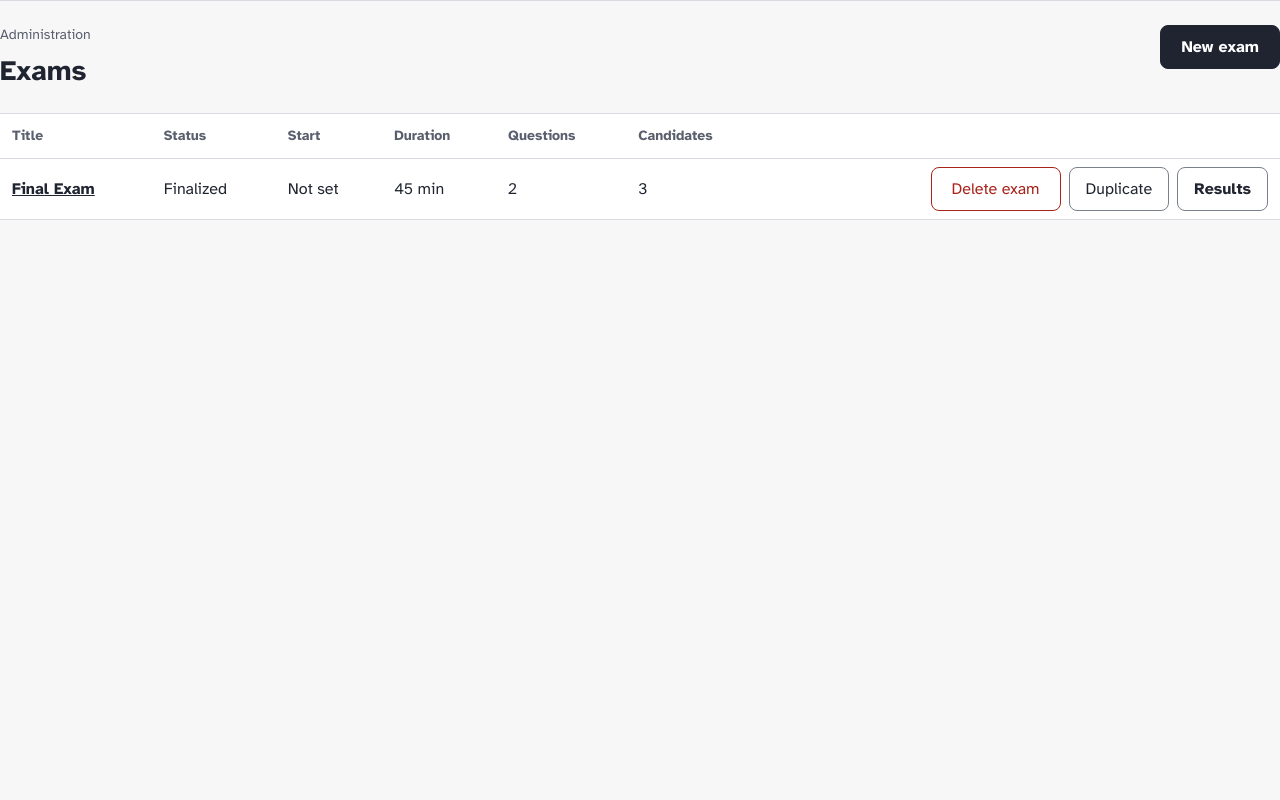
Scenario: ExamList › shows impact counts, supports cancel, and confirms finalized deletion
Click the button "Delete exam". click: [996, 189]
box: left=931, top=167, right=1061, bottom=211
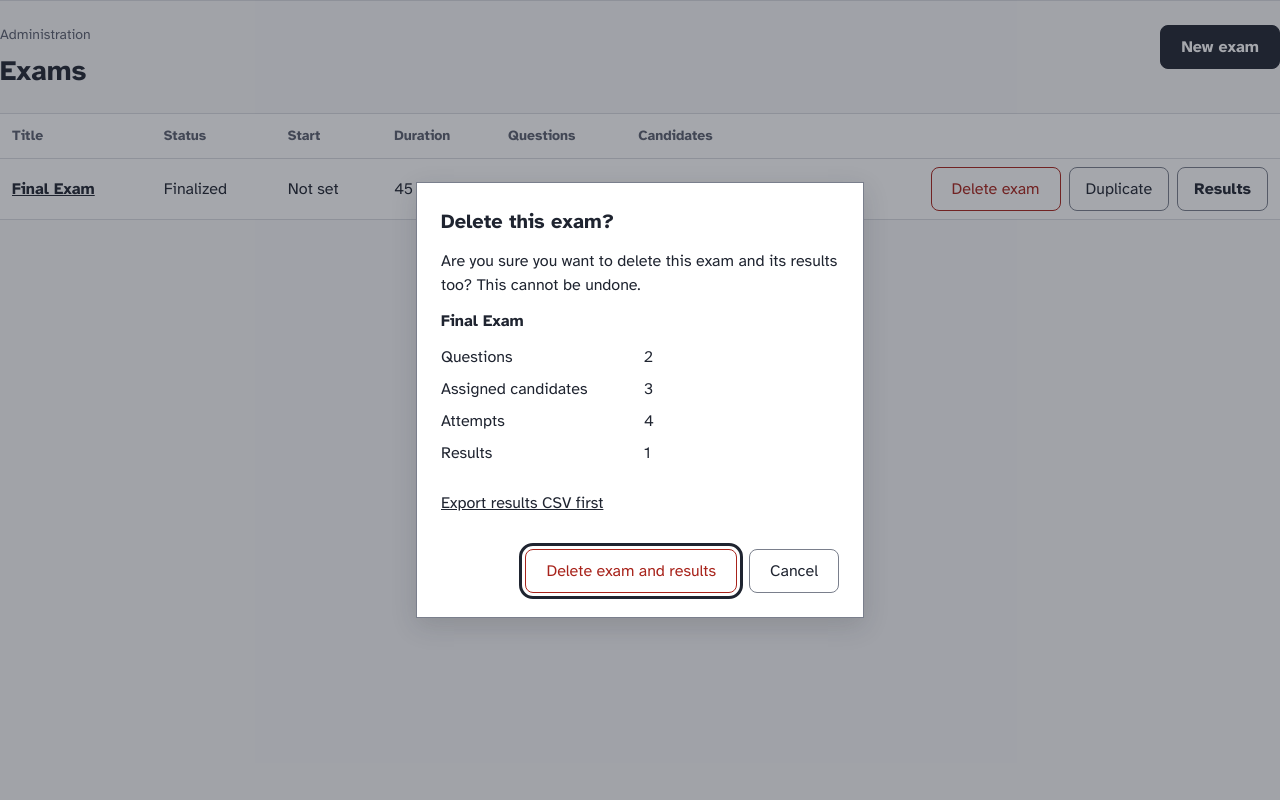
Expected: the text "Are you sure you want to delete this exam and its results too? This cannot be undone." is shown, left=441, top=251, right=837, bottom=295
Expected: the text "4" is shown, left=644, top=411, right=654, bottom=431
Expected: the text "1" is shown, left=644, top=443, right=650, bottom=463
Click the button "Cancel". click: [794, 571]
box: left=749, top=549, right=839, bottom=593
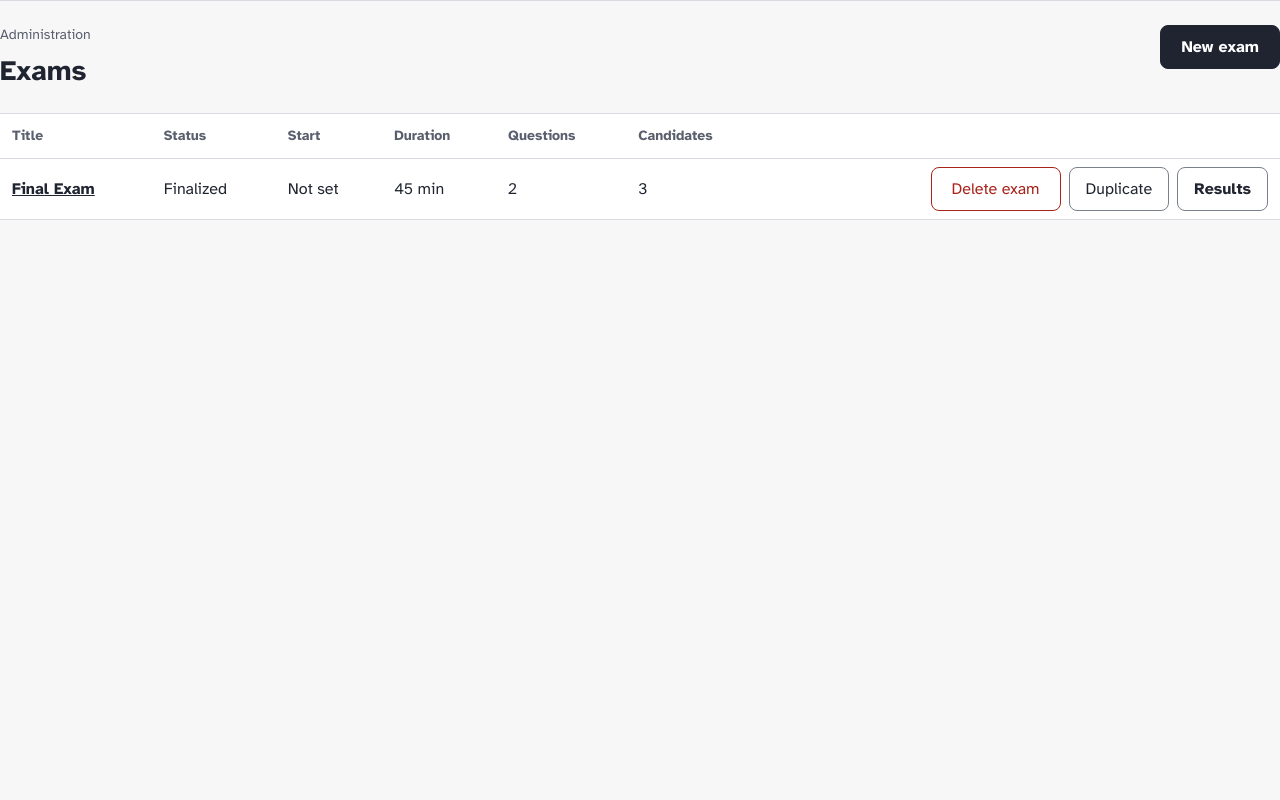
Click the button "Delete exam". click: [996, 189]
box: left=931, top=167, right=1061, bottom=211
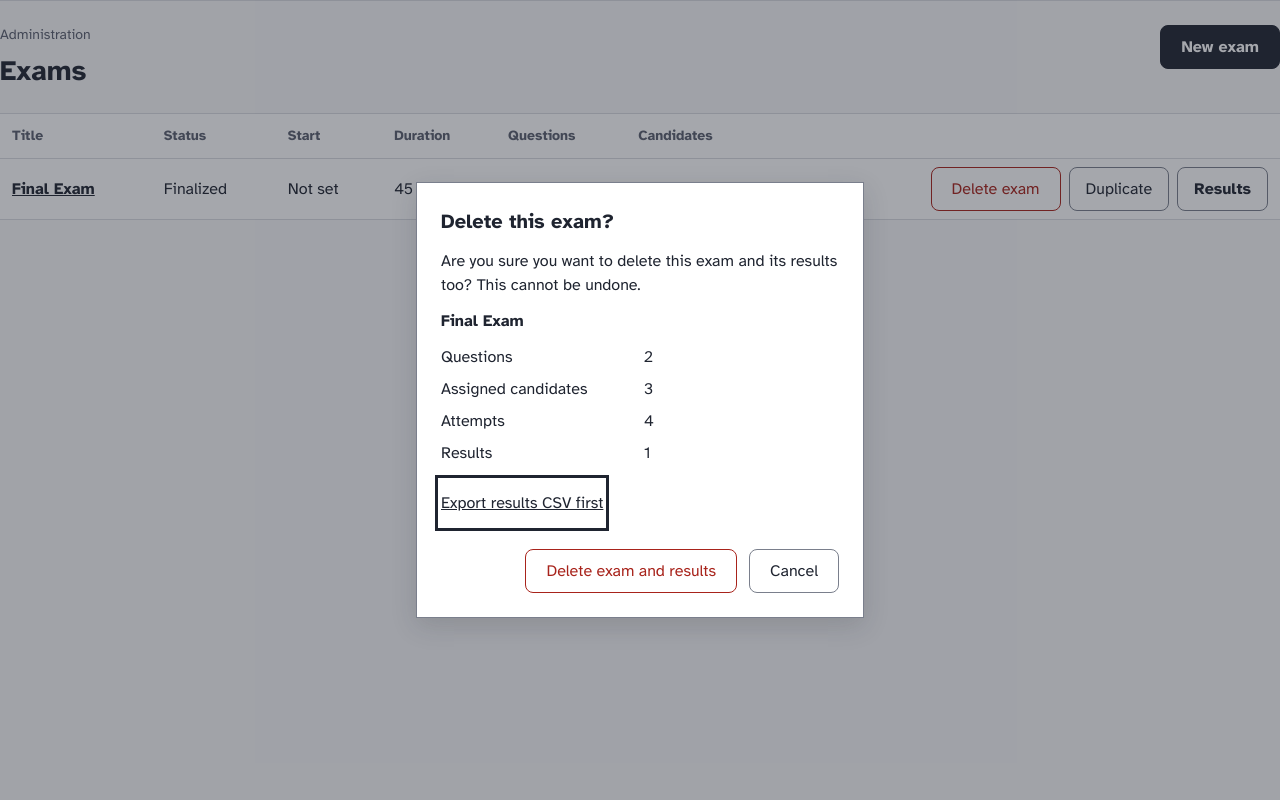
Click the button "Delete exam and results". click: [631, 571]
box: left=525, top=549, right=737, bottom=593
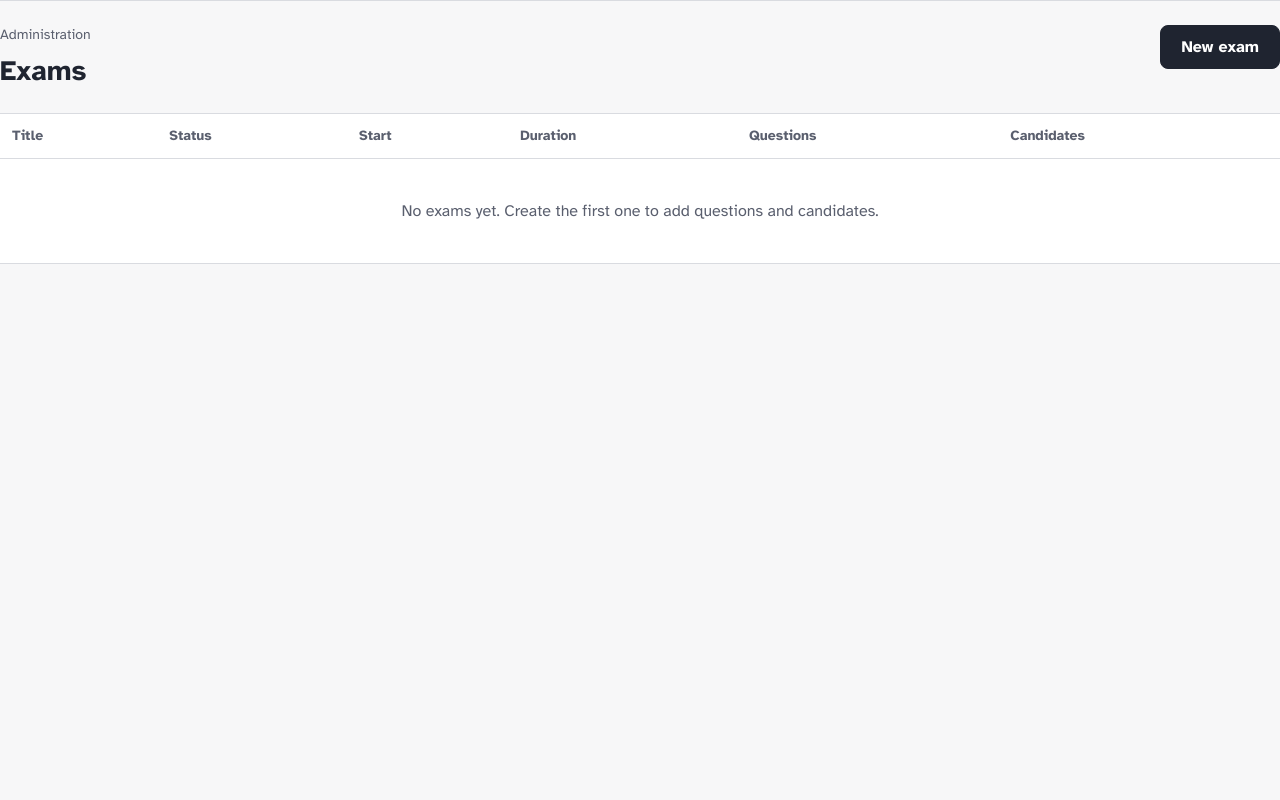
Expected: the link "Final Exam" is gone
